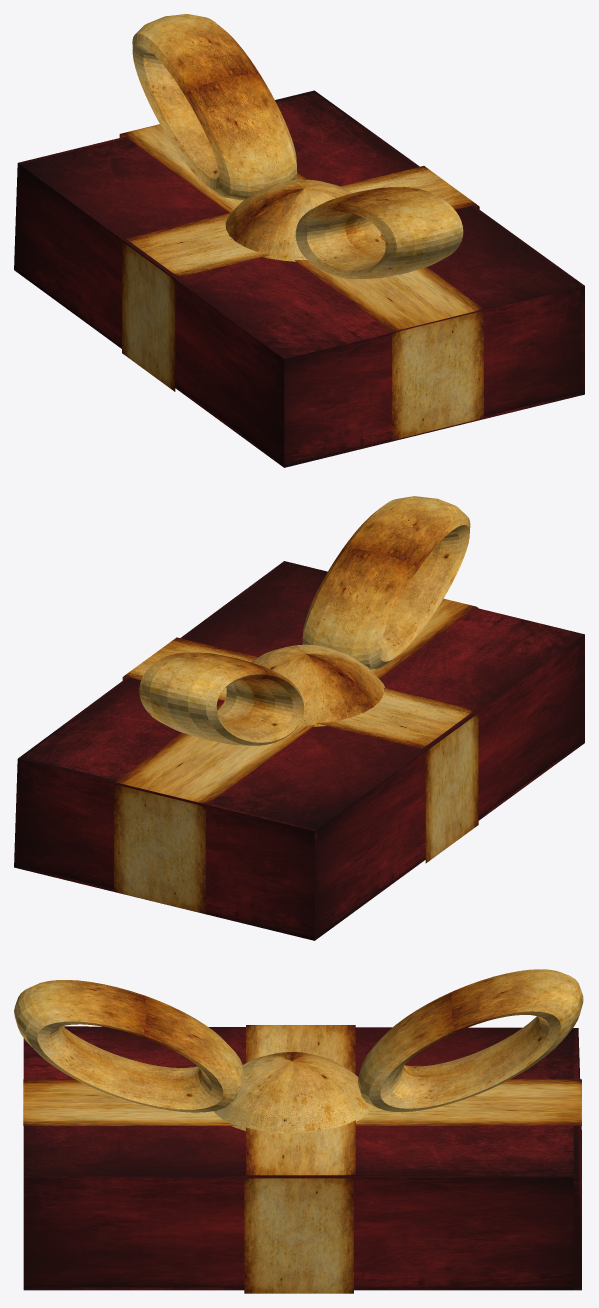
File: Tapa.obj
3 views of the same model, one above another, from view 1: azimuth 30°, elevation 25°; view 2: azimuth 150°, elevation 25°; view 3: azimuth 270°, elevation 25° (orthographic). The views are drawn at different scales.
Visible parts, largest first — view 1: tapa_Cubo.003, Torus.002, Torus.001, Plano.009, Plano, Plano.001, Plano.002, Esfera; view 2: tapa_Cubo.003, Torus.001, Torus.002, Plano.008, Plano, Esfera, Plano.002, Plano.001; view 3: tapa_Cubo.003, Torus.001, Torus.002, Plano, Plano.003, Esfera, Plano.001.
Boxes of the visible parts, x1=… form: tapa_Cubo.003: x1=14, y1=90, x2=584, y2=467; Torus.002: x1=132, y1=14, x2=297, y2=200; Torus.001: x1=295, y1=187, x2=463, y2=279; Plano.009: x1=392, y1=310, x2=483, y2=440; Plano: x1=122, y1=124, x2=483, y2=331; Plano.001: x1=126, y1=166, x2=476, y2=277; Plano.002: x1=122, y1=241, x2=175, y2=391; Esfera: x1=225, y1=179, x2=381, y2=261; tapa_Cubo.003: x1=14, y1=561, x2=584, y2=940; Torus.001: x1=302, y1=496, x2=470, y2=669; Torus.002: x1=139, y1=652, x2=303, y2=745; Plano.008: x1=114, y1=784, x2=205, y2=913; Plano: x1=115, y1=598, x2=476, y2=804; Esfera: x1=251, y1=644, x2=384, y2=726; Plano.002: x1=425, y1=713, x2=478, y2=863; Plano.001: x1=124, y1=637, x2=474, y2=748; tapa_Cubo.003: x1=23, y1=1026, x2=581, y2=1290; Torus.001: x1=14, y1=980, x2=243, y2=1112; Torus.002: x1=358, y1=969, x2=583, y2=1112; Plano: x1=23, y1=1079, x2=581, y2=1125; Plano.003: x1=244, y1=1178, x2=353, y2=1293; Esfera: x1=214, y1=1052, x2=372, y2=1133; Plano.001: x1=246, y1=1025, x2=355, y2=1175.
Size of the model in its own units: 0.8656 by 0.6208 by 1.36.
2 materials, 2 textured.
